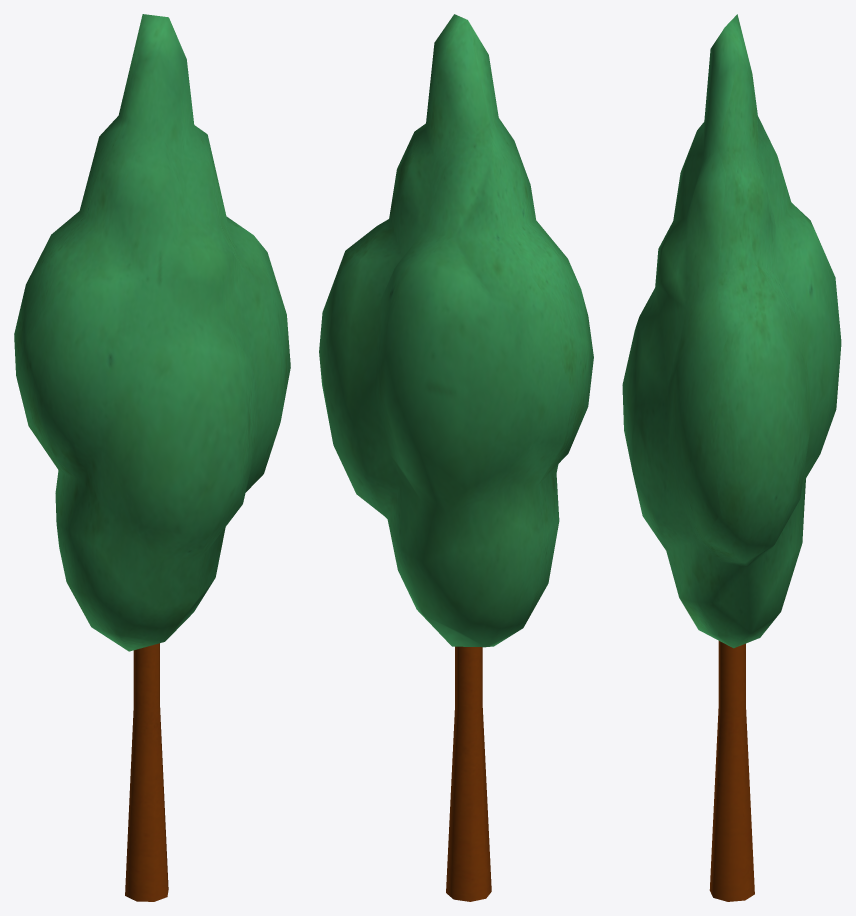
The model's file is Tree_01.fbx.
3 renders of one model, left to right at view 1: azimuth 30°, elevation 25°; view 2: azimuth 150°, elevation 25°; view 3: azimuth 270°, elevation 25°, orthographic.
Visible parts, largest first — view 1: Tree_01; view 2: Tree_01; view 3: Tree_01.
Boxes of the visible parts, left/top/right/bottom form: Tree_01: left=14, top=14, right=290, bottom=901; Tree_01: left=319, top=14, right=593, bottom=901; Tree_01: left=622, top=14, right=841, bottom=901.
Size of the model in its own units: 3.45 by 2.55 by 11.26.
